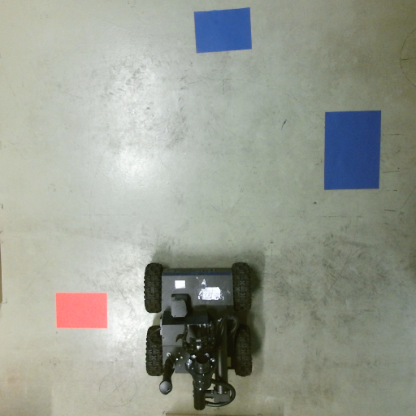Blue: (322, 110, 382, 194), (193, 9, 253, 53)
Jaguar: (140, 262, 256, 414)
Red: (54, 291, 109, 327)
